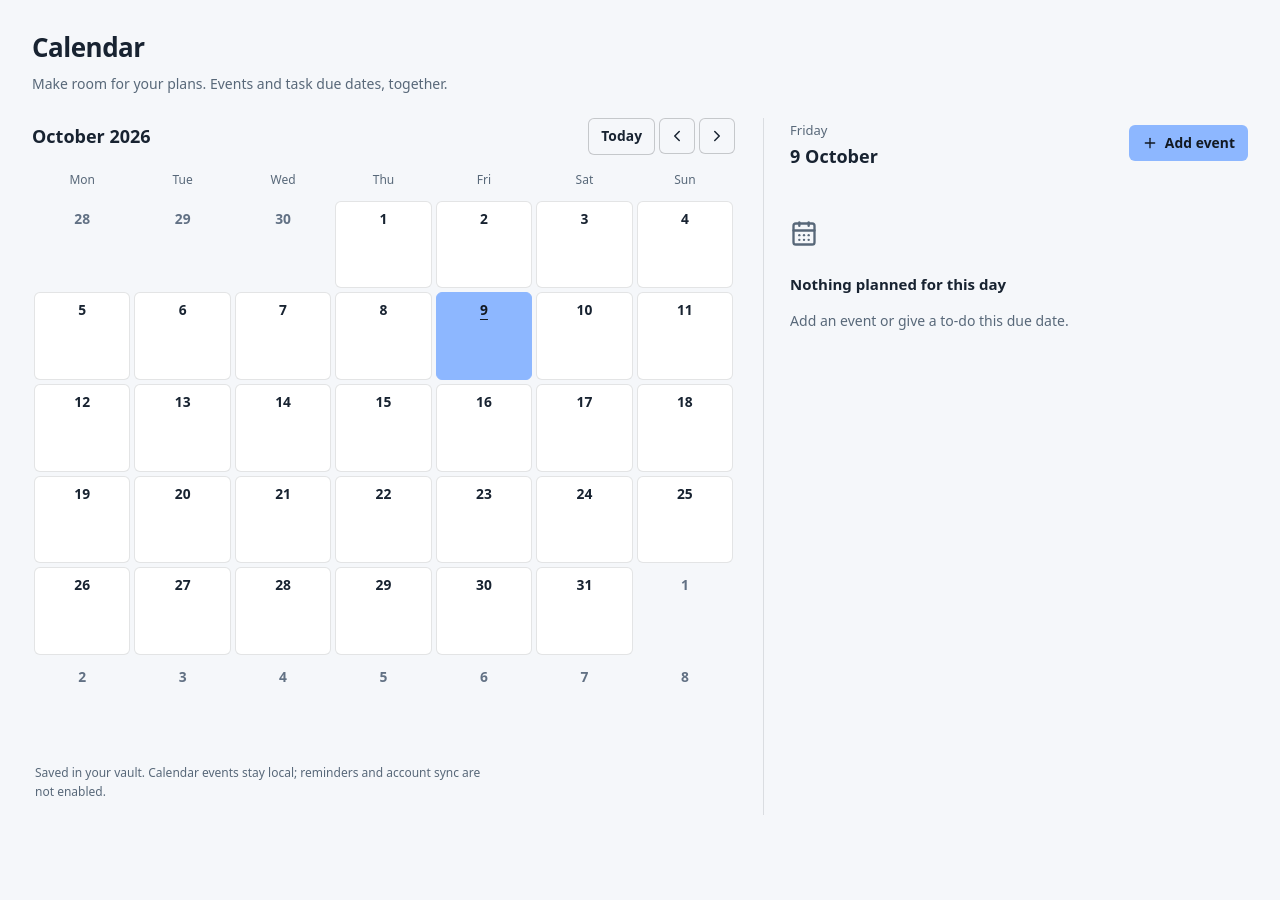
organizer workspace › navigates the calendar by keyboard and validates dates for keyboard saves
This screenshot has width=1280, height=900.
Press ArrowRight in the button "9", box [436, 292, 532, 380]
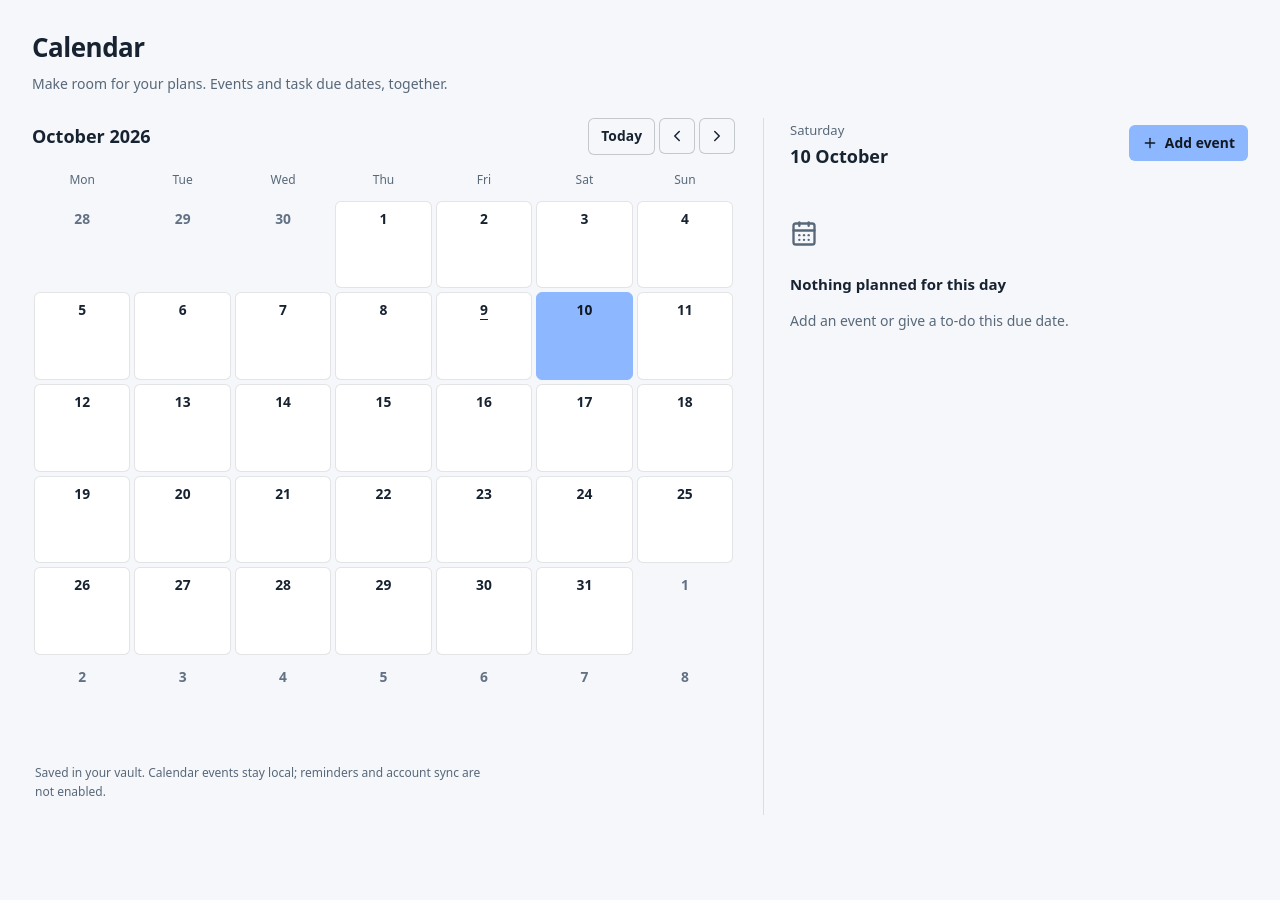
expect the button "10" has attribute tabindex="0": met, box [536, 292, 633, 380]
Click the button "Add event": point(1188, 143) [1129, 124, 1248, 161]
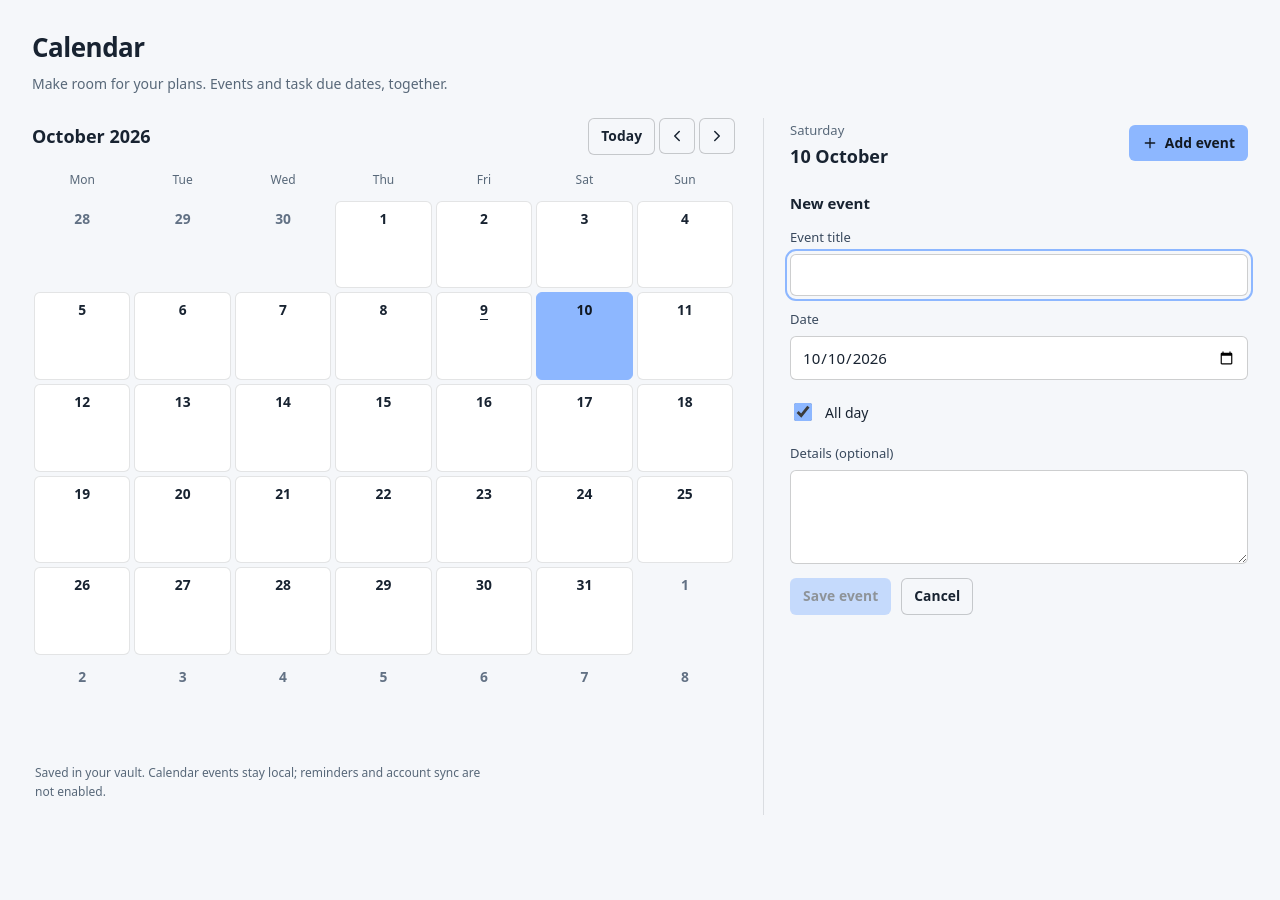
In the field labelled "Event title": point(1019, 275) [790, 254, 1248, 296], type "Date needed"
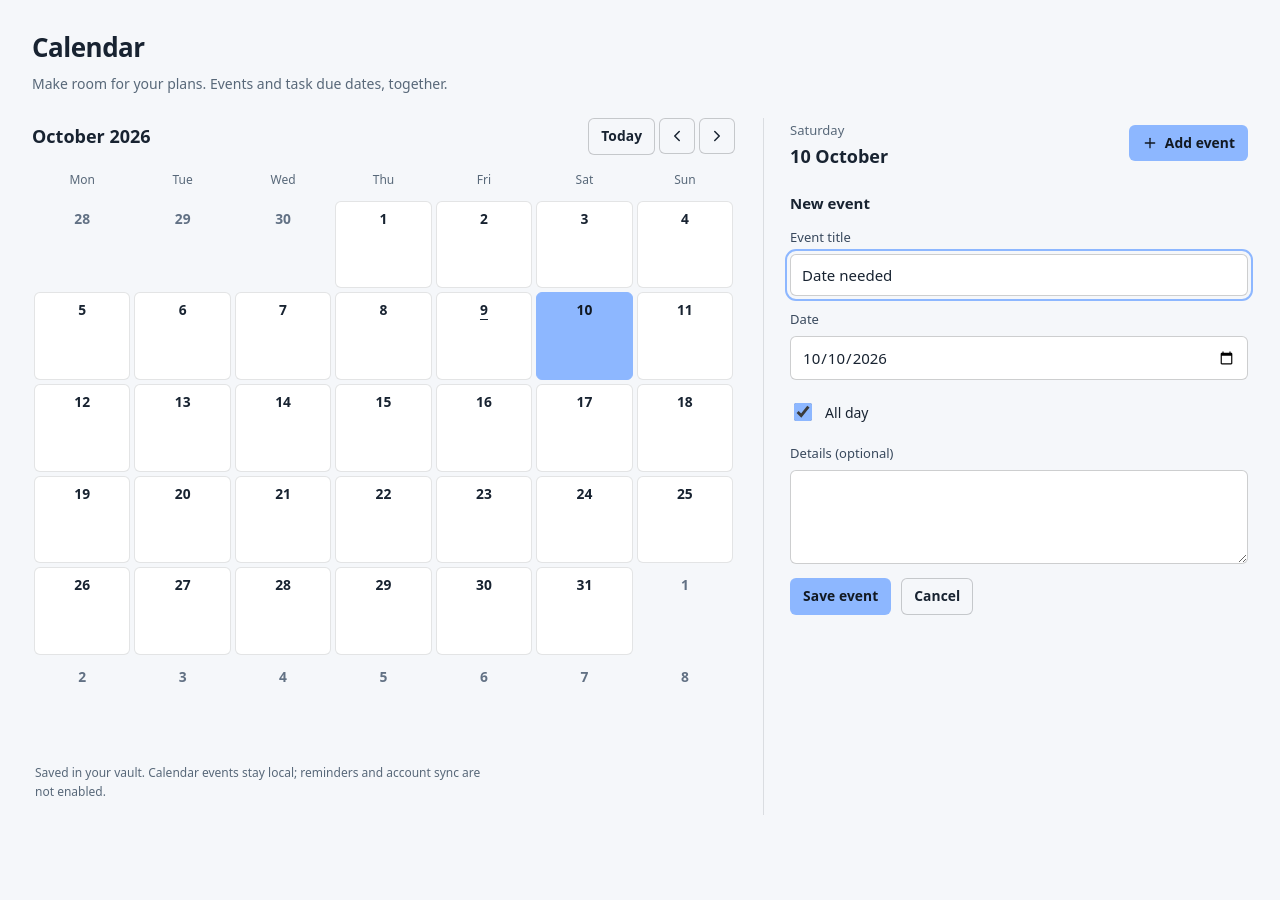
Clear the date field labelled "Date": point(1019, 358) [790, 336, 1248, 380]
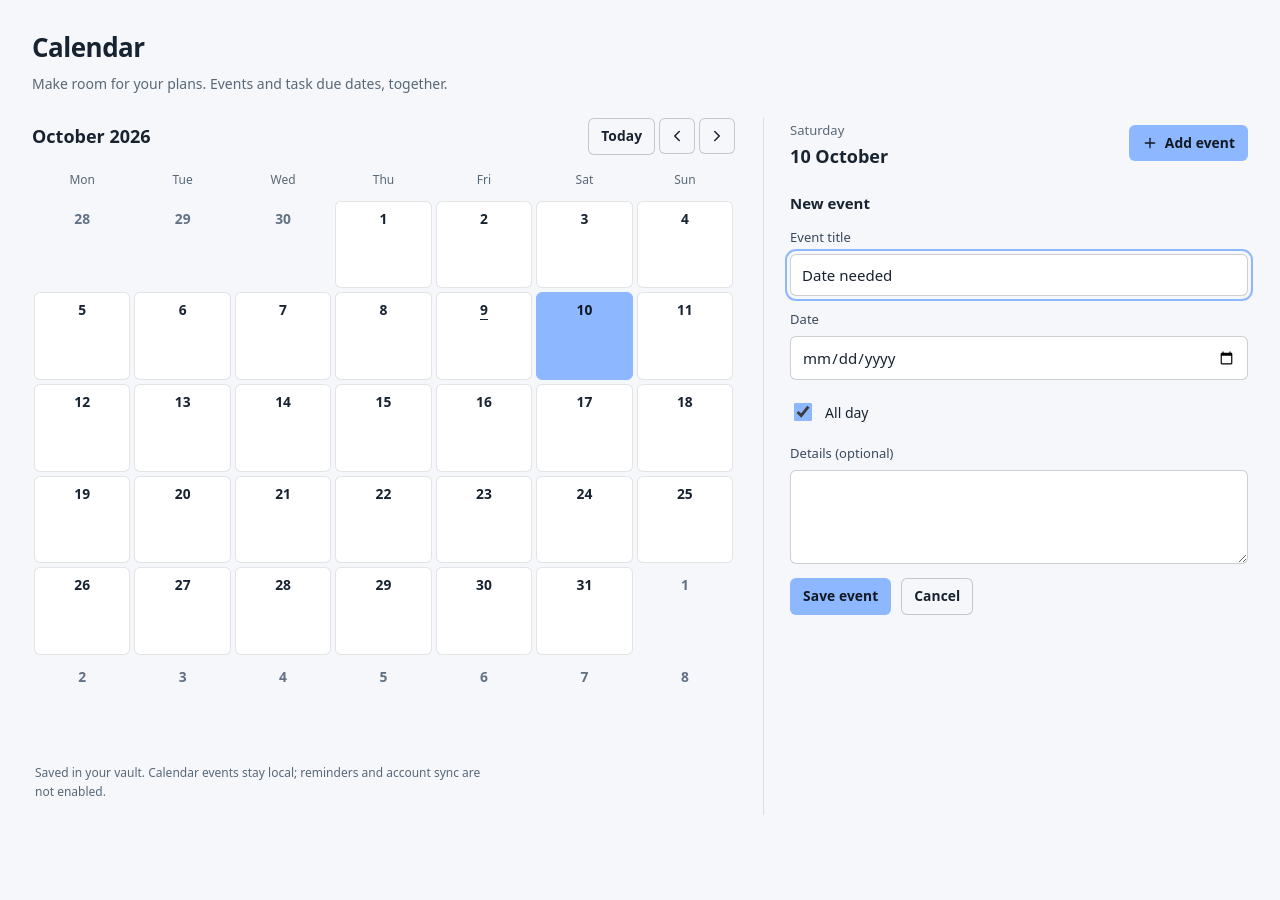
Press s in the field labelled "Event title", box [790, 254, 1248, 296]
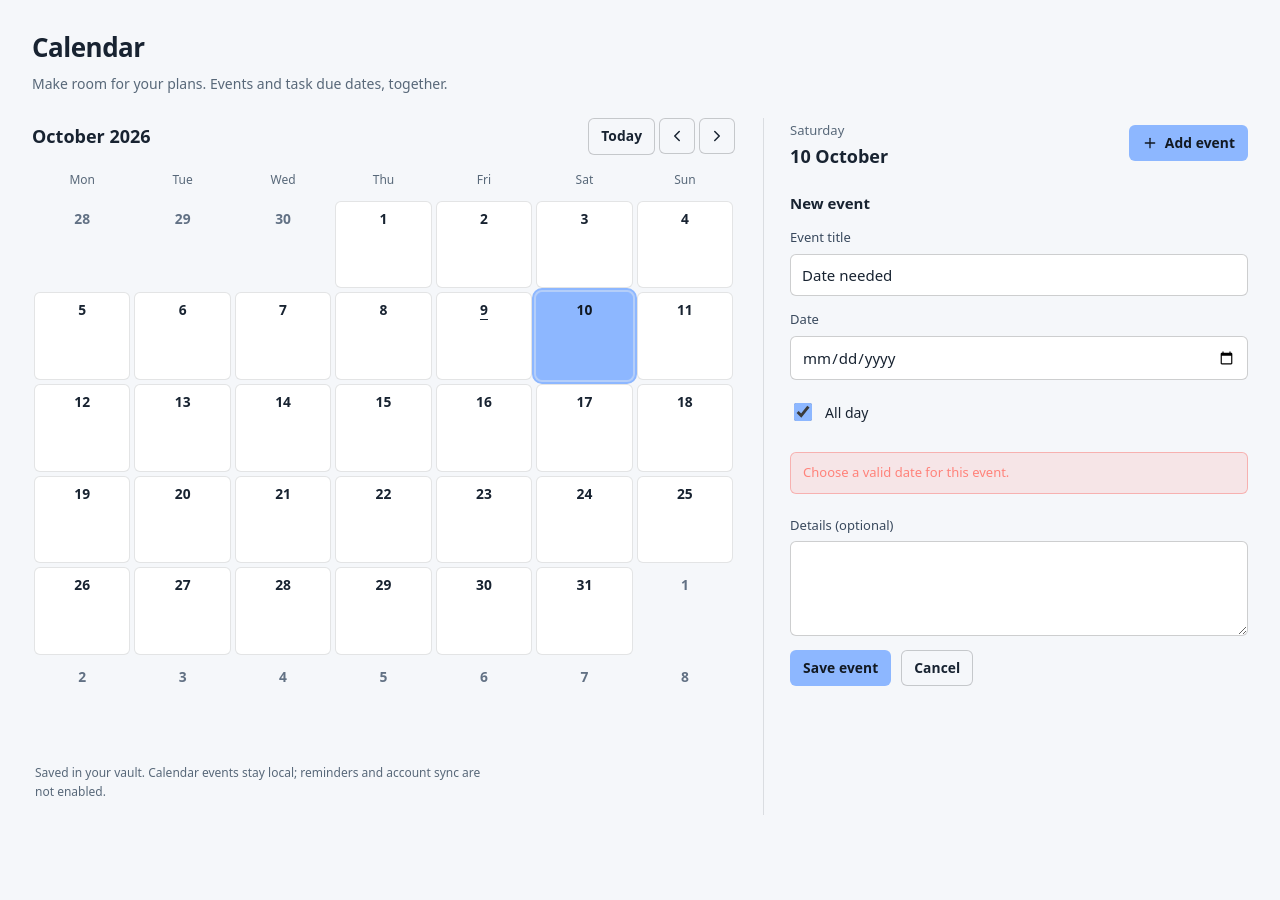
expect the message shows "Choose a valid date": met, box [803, 463, 1009, 481]
